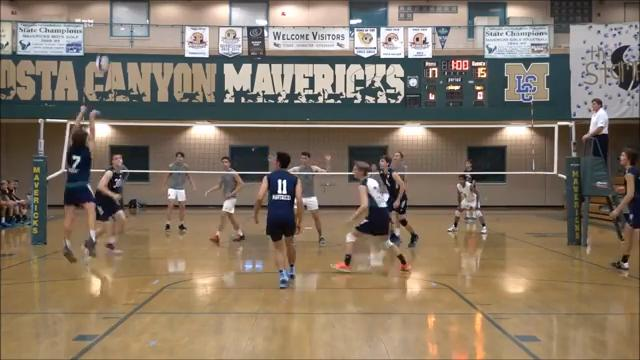Attack: (49, 93, 103, 264)
Player: (332, 161, 410, 271), (254, 152, 303, 287), (289, 151, 330, 244), (379, 156, 418, 247), (205, 156, 244, 244), (611, 148, 639, 269), (95, 154, 125, 253), (164, 151, 195, 232), (447, 174, 486, 233), (392, 205, 418, 247), (464, 159, 479, 208)
ball: (96, 55, 109, 70)
